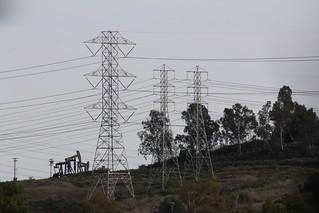power_tower: (88, 27, 136, 201), (182, 61, 216, 183), (150, 61, 180, 191)
